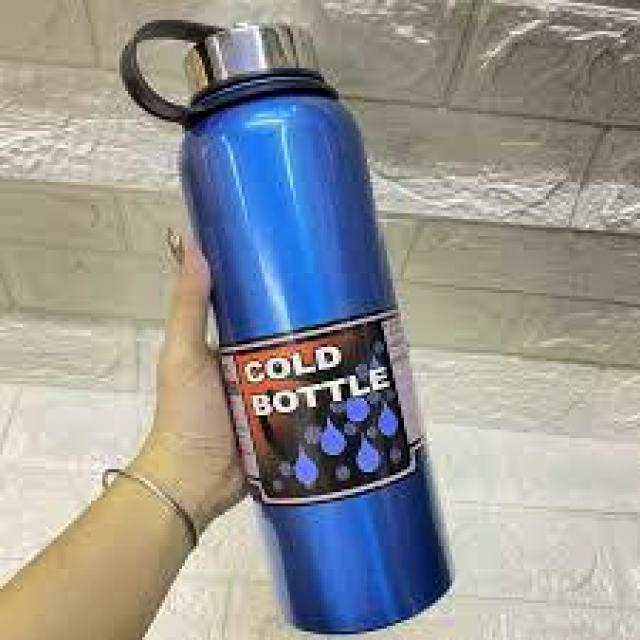bottle: (112, 13, 476, 636)
